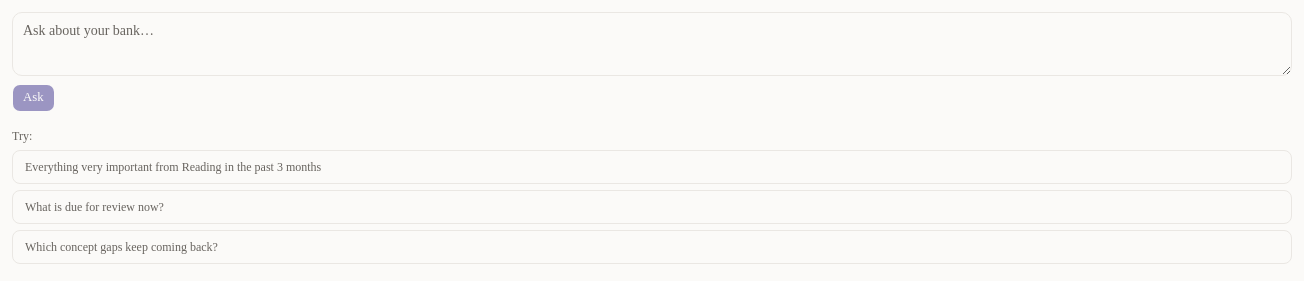
Ask › shows no offline warning once a real analyzer is answering
The width and height of the screenshot is (1304, 281).
Step 1. Type "everything" into the text box labelled "Ask about your bank" → [652, 44], box [12,12,1292,76]
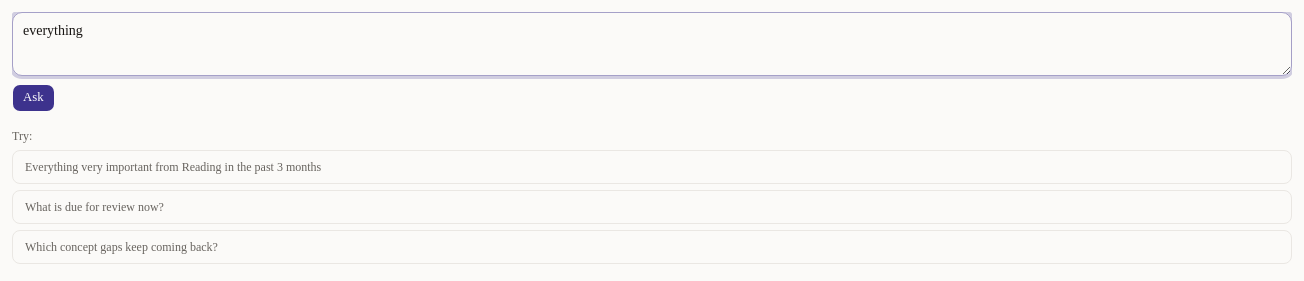
Step 2. Click the button "Ask" → [33, 98], box [12,84,55,112]
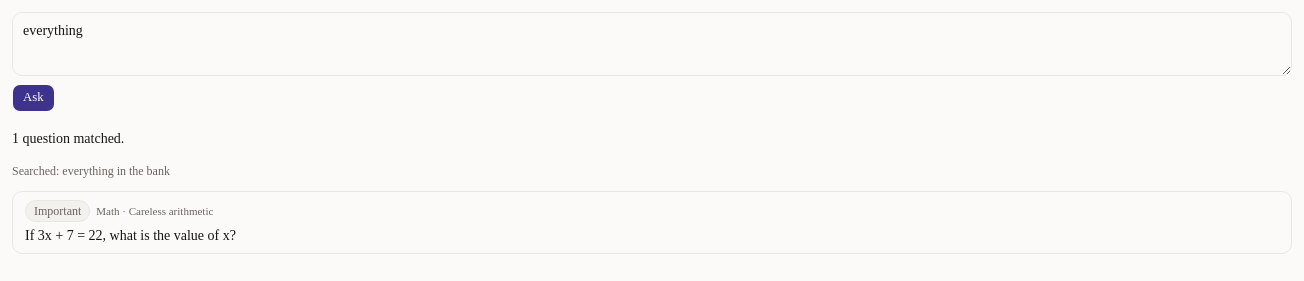
Expected: the text "1 question matched." is shown, [12,131,124,146]
